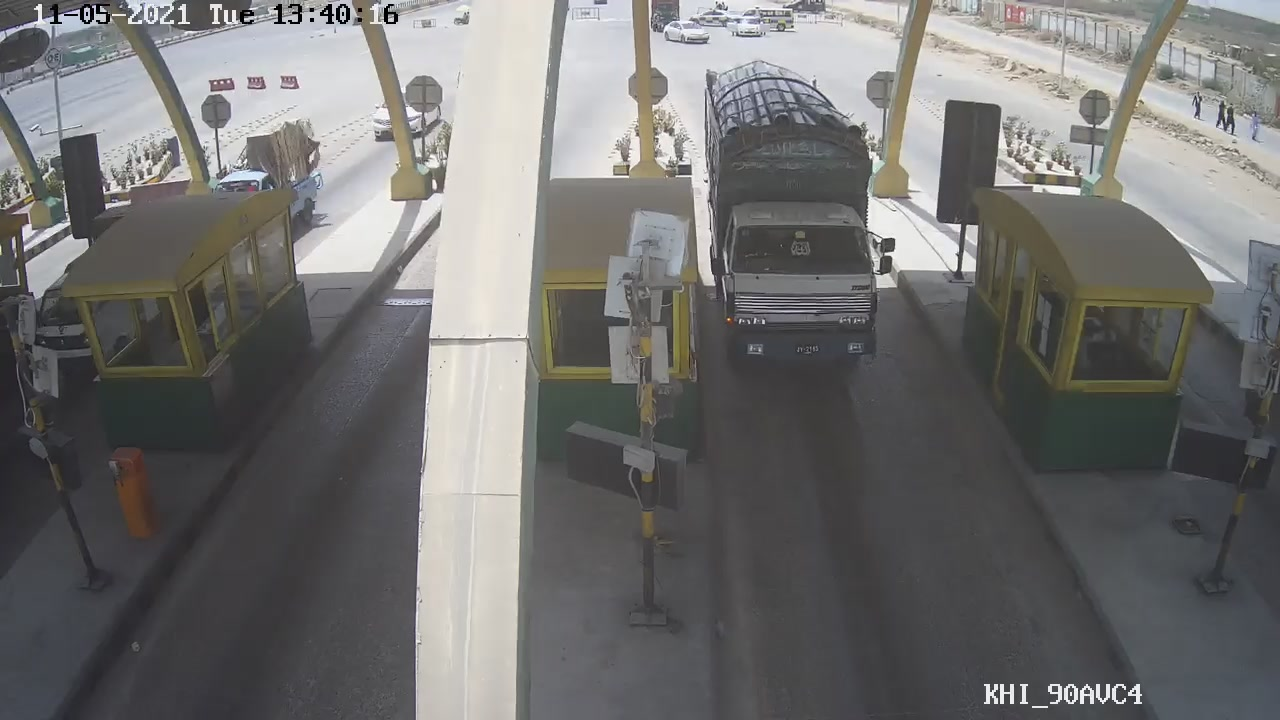F5: (692, 65, 900, 385)
